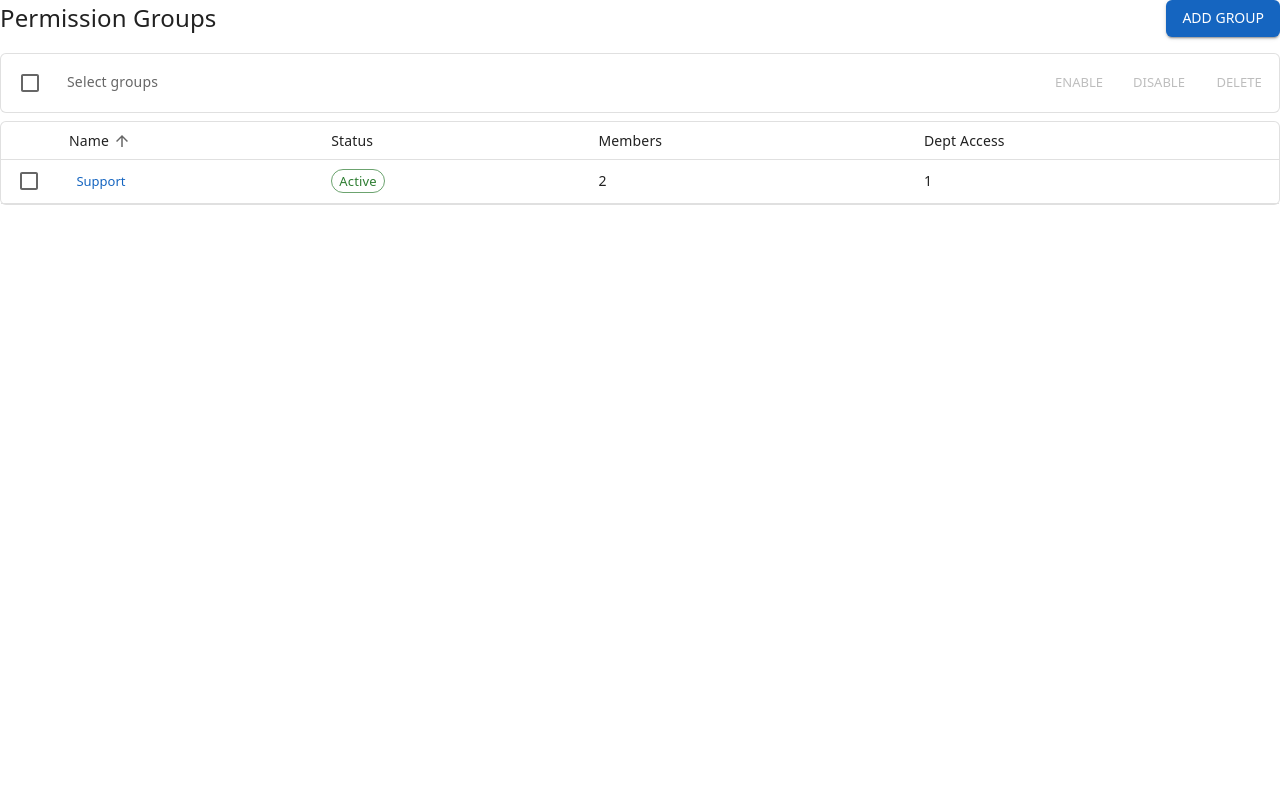
Scenario: GroupListPage (TS-M4-B4) › shows all eleven Yes/No flags (incl. the four net-new) on the Add form
Expected: the button "Support" is shown, top-left (69, 166), bottom-right (133, 197)
Click the button with test id "add-group": click(1223, 18) top-left (1166, 0), bottom-right (1279, 36)
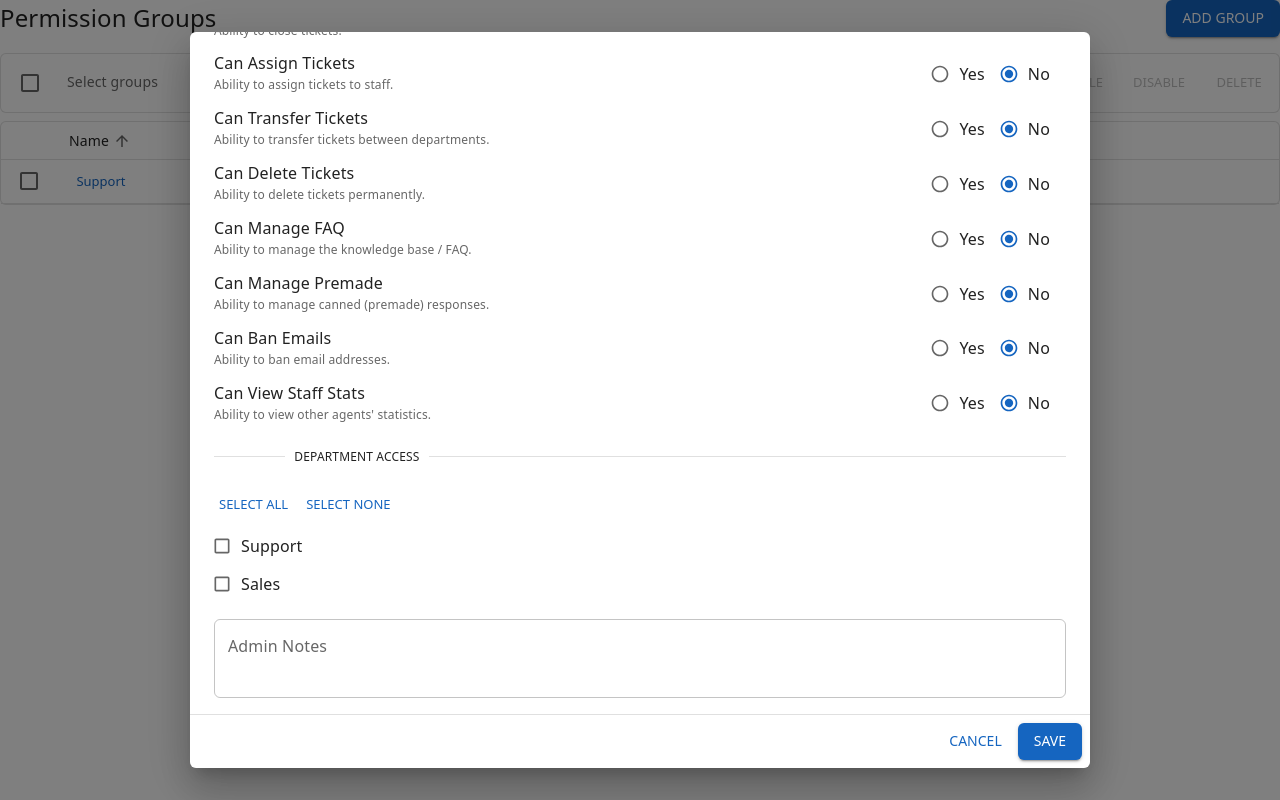
Now the element with test id "perm-can_manage_faq" is shown, box top-left (214, 217), bottom-right (1066, 260)
Now the element with test id "perm-can_manage_premade" is shown, box top-left (214, 272), bottom-right (1066, 315)
Now the element with test id "perm-can_ban_emails" is shown, box top-left (214, 327), bottom-right (1066, 370)
